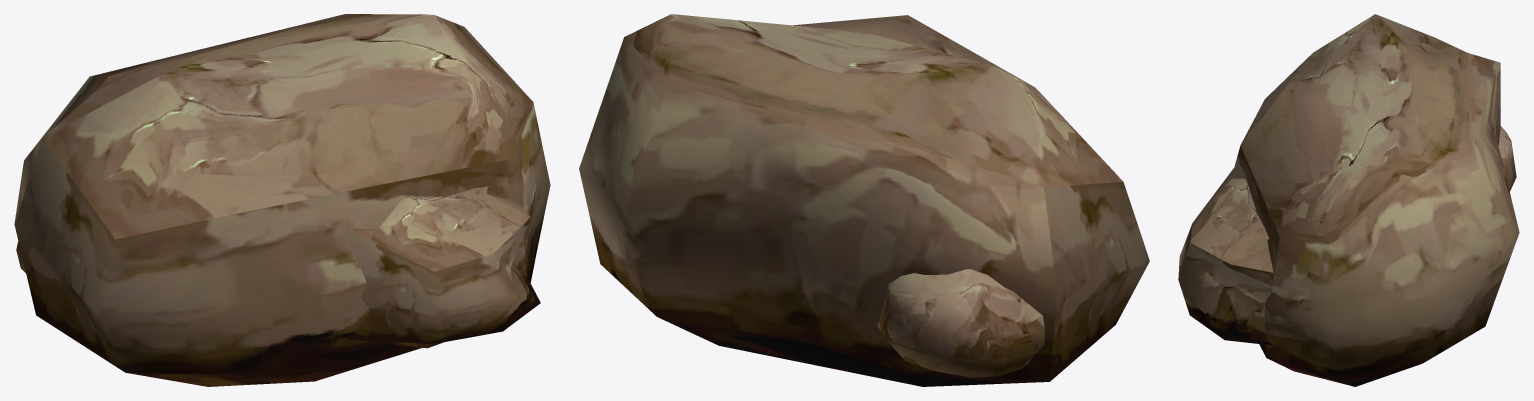
Rendered from hut_env_cover_rock_wide02.glb.
3 renders of one model, left to right at view 1: azimuth 30°, elevation 25°; view 2: azimuth 150°, elevation 25°; view 3: azimuth 270°, elevation 25°, orthographic. The views are drawn at different scales.
Parts seen in each view (by area): view 1: dro_junglerock10; view 2: dro_junglerock10; view 3: dro_junglerock10.
Boxes of the visible parts, x1=… form: dro_junglerock10: x1=14, y1=14, x2=550, y2=386; dro_junglerock10: x1=579, y1=14, x2=1149, y2=386; dro_junglerock10: x1=1178, y1=14, x2=1519, y2=386.
Bounding box in the file's own units: 0.2769 × 0.1689 × 0.2033.
Materials: 1 (1 with a texture image).
